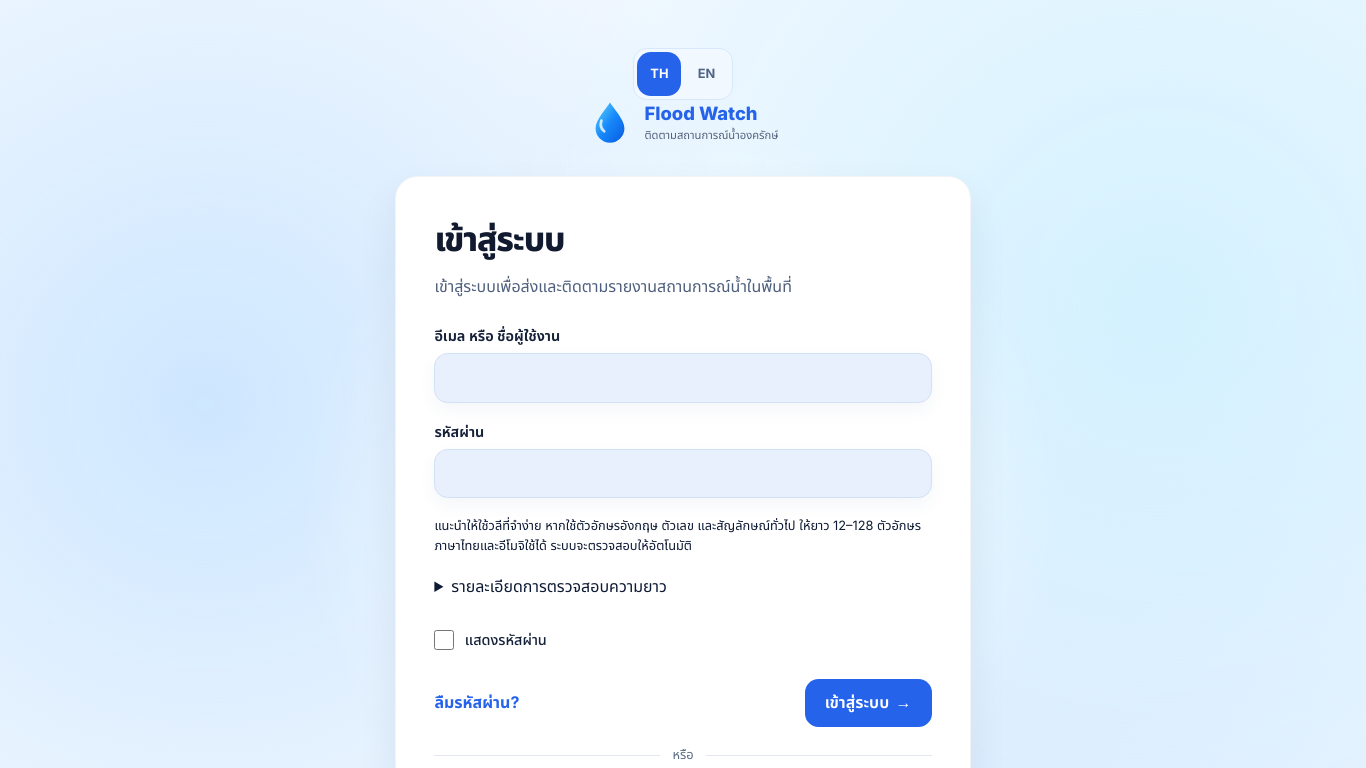
Scenario: AuthPage › keeps pending integrations visibly unavailable while allowing password visibility
The image size is (1366, 768).
Type "secret" into the password field labelled "รหัสผ่าน".
click(683, 474); type("secret")  # box x1=434 y1=449 x2=932 y2=498
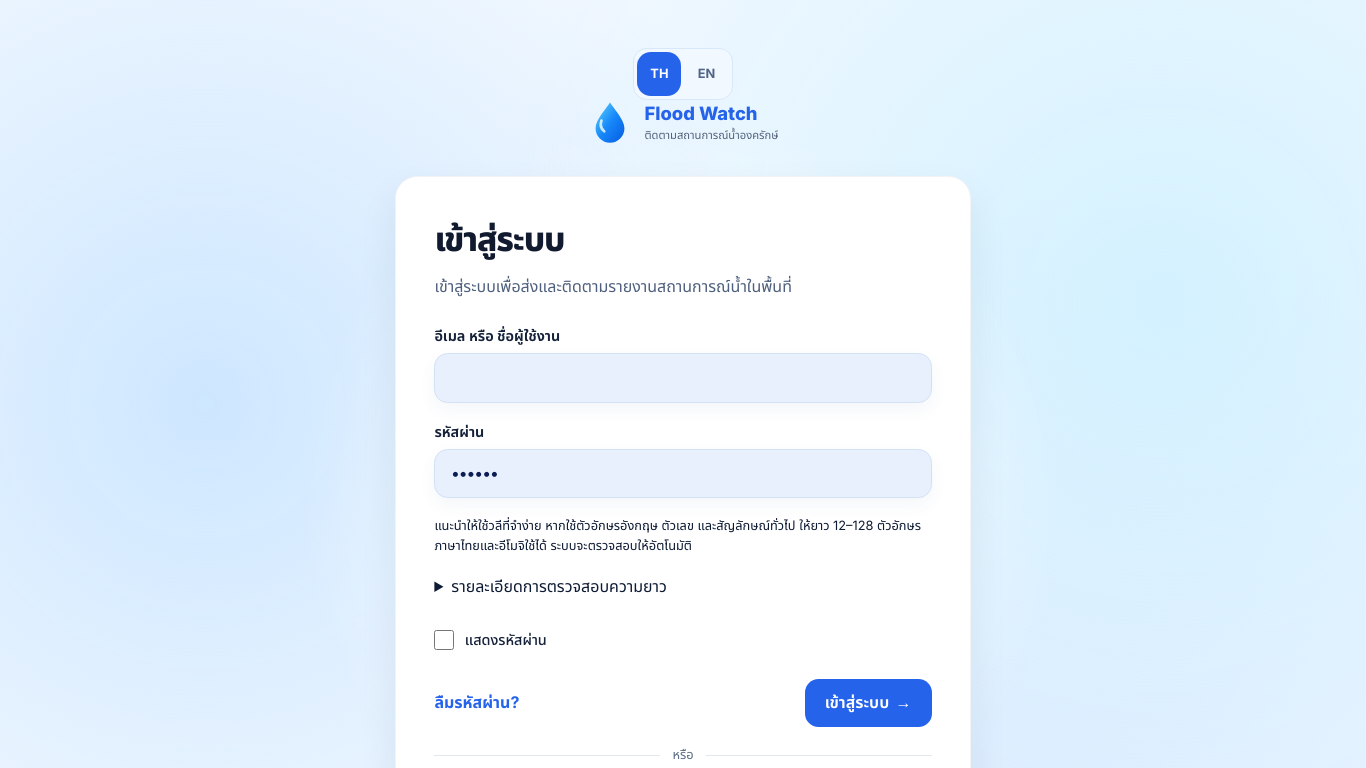
Click the checkbox labelled "แสดงรหัสผ่าน".
click(444, 640)  # box x1=434 y1=618 x2=454 y2=662
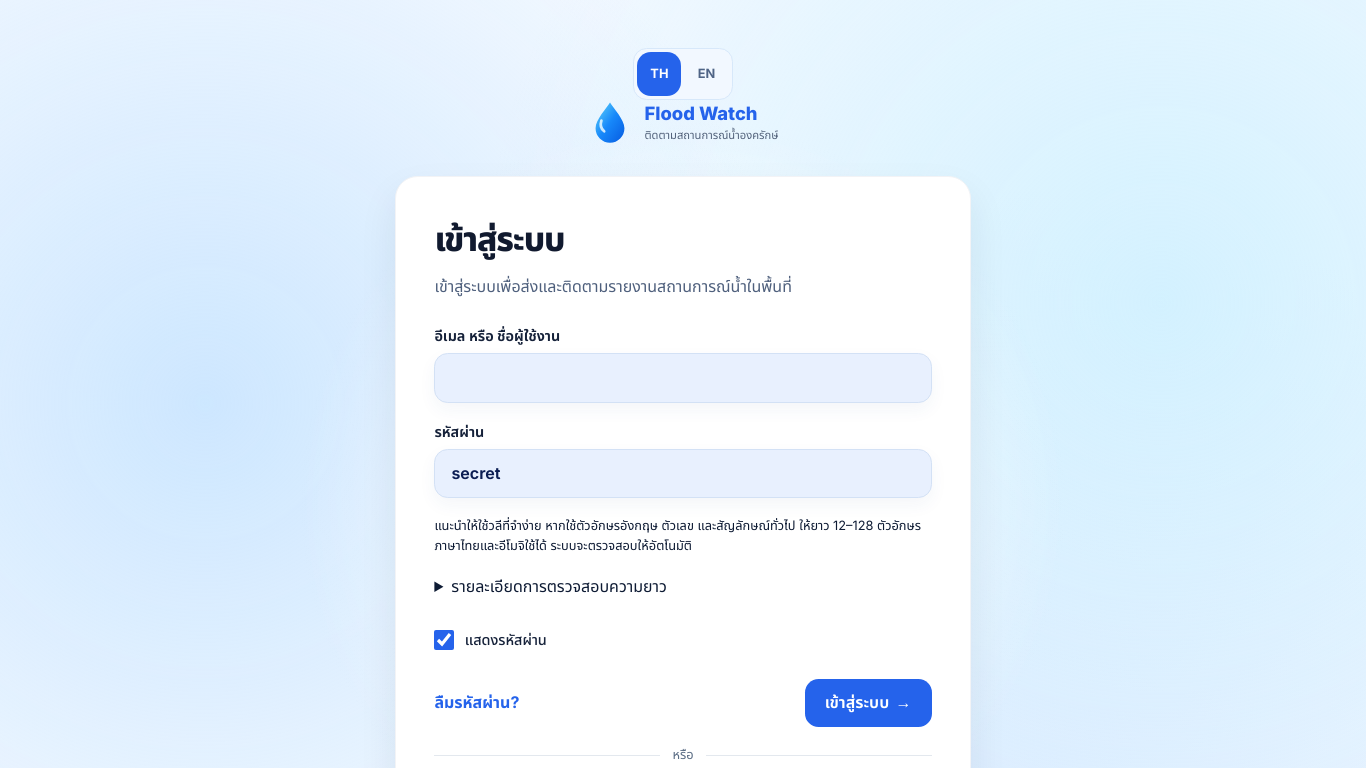
Result: the field labelled "รหัสผ่าน" shows its text at x1=434 y1=449 x2=932 y2=498
Click the link "ลืมรหัสผ่าน?".
click(477, 702)  # box x1=434 y1=692 x2=519 y2=712
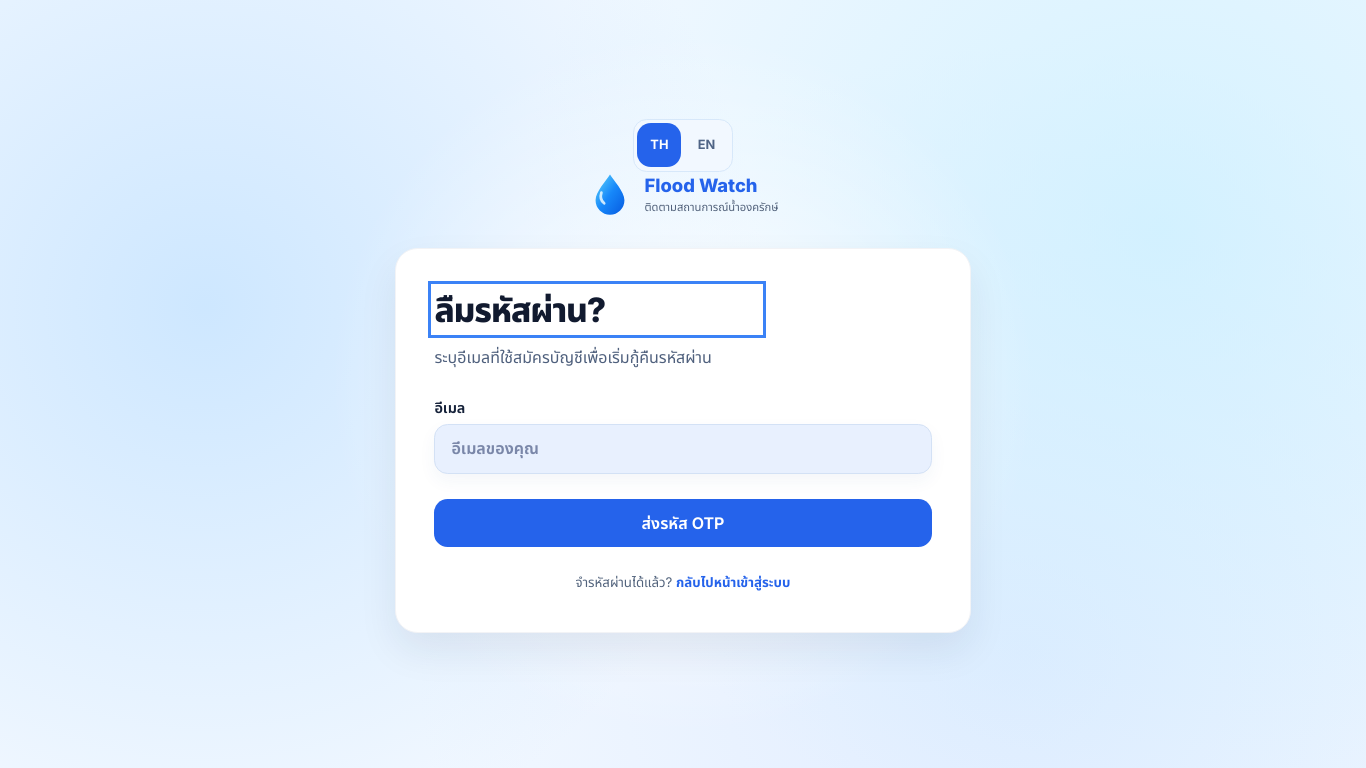
Result: the heading "ลืมรหัสผ่าน?" is shown at x1=434 y1=289 x2=605 y2=330
Result: the button "ส่งรหัส OTP" is shown at x1=434 y1=499 x2=932 y2=547
